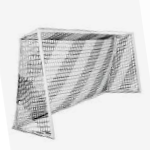goals: (10, 25, 143, 144)
